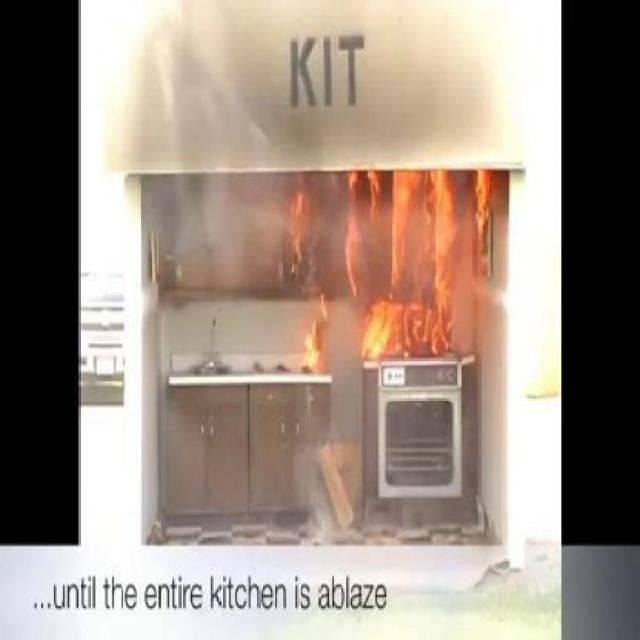fire: (270, 167, 507, 378)
smoke: (133, 19, 472, 167), (145, 171, 259, 345)
